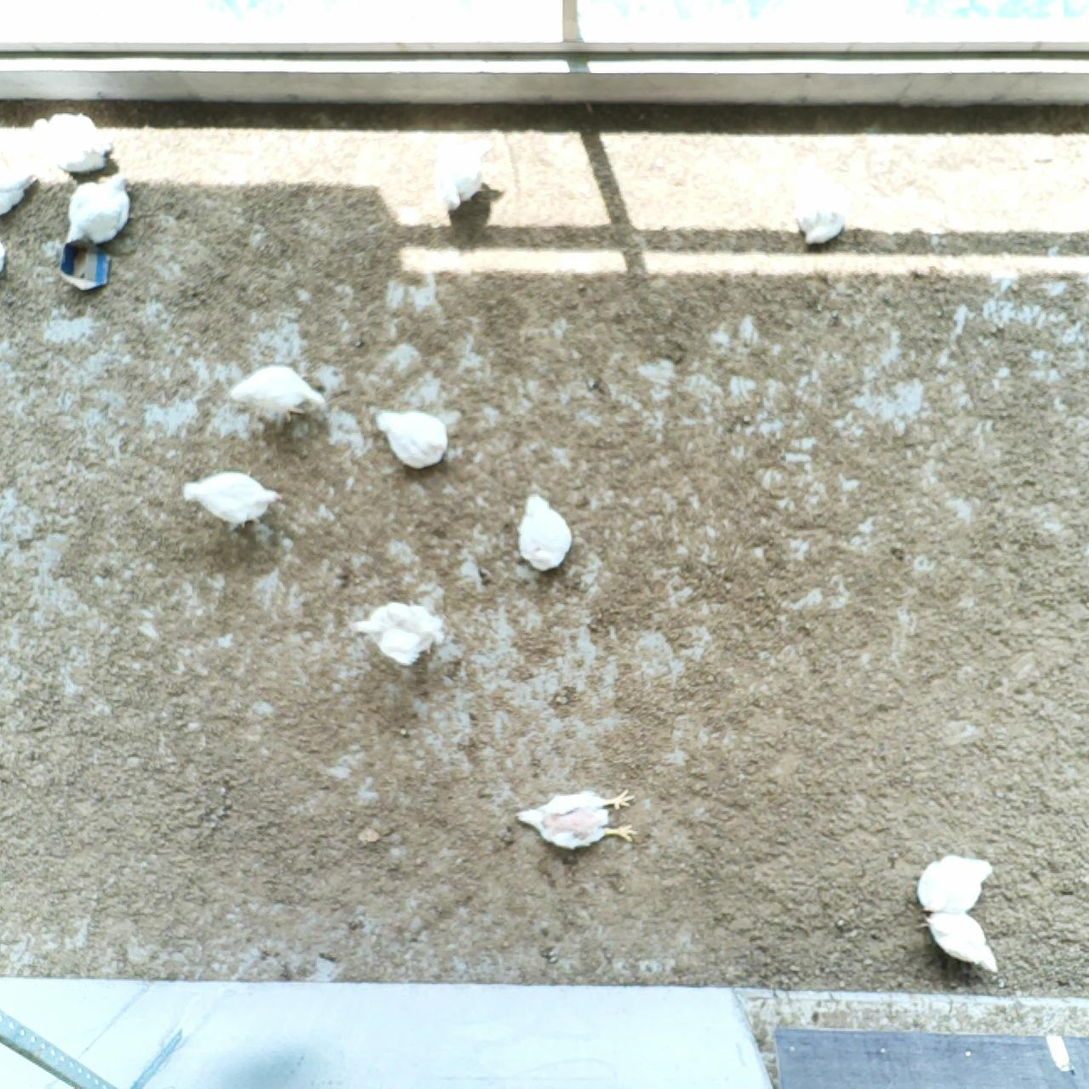chicken: (512, 786, 639, 854), (347, 593, 446, 668), (228, 361, 324, 424), (183, 468, 281, 529), (919, 908, 1006, 974), (512, 490, 575, 577), (62, 171, 131, 249), (375, 403, 449, 471), (433, 137, 497, 215), (915, 855, 992, 917), (41, 109, 112, 174), (793, 172, 849, 248), (0, 138, 36, 220), (0, 235, 11, 278)
